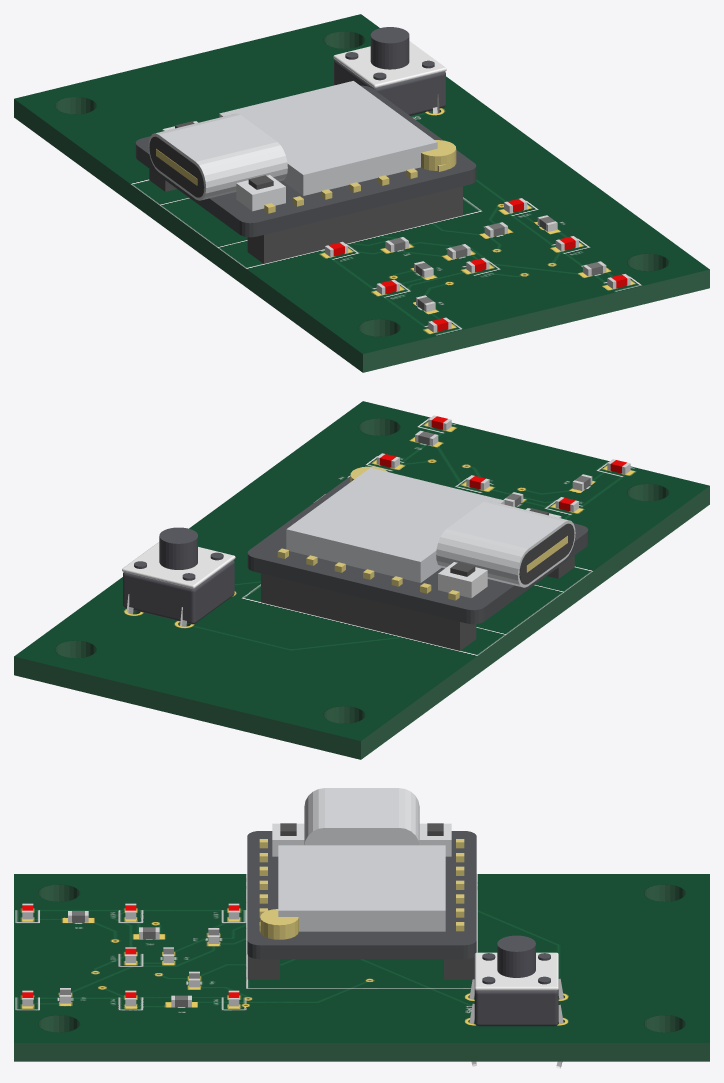
The model's file is board.glb.
3 views of the same model, one above another, from view 1: azimuth 30°, elevation 25°; view 2: azimuth 150°, elevation 25°; view 3: azimuth 270°, elevation 25° (orthographic).
Visible parts, largest first — view 1: Box0, U1, SW1; view 2: Box0, U1, SW1; view 3: Box0, U1, SW1.
Boxes of the visible parts, x1,y1,x2,y2 form: Box0: (14, 14, 709, 372); U1: (135, 81, 476, 263); SW1: (333, 27, 446, 115); Box0: (14, 401, 709, 759); U1: (247, 466, 588, 650); SW1: (122, 527, 235, 626); Box0: (14, 874, 709, 1061); U1: (247, 788, 476, 979); SW1: (469, 935, 563, 1068).
Size of the model in its own units: 32.08 by 10.72 by 54.
15 materials, 2 textured.
